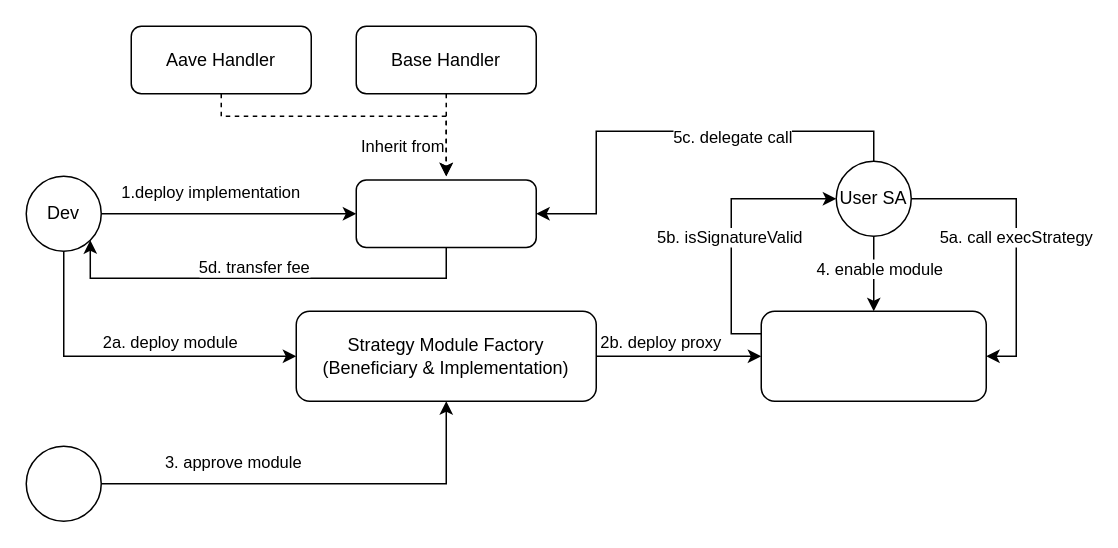
The diagram is 1118 pixels wide and 548 high, and some of its shapes have lost their labels. Each missing label, with the centre of its shape:
Admin: point 63,483
Custom Strategy: point 445,213
Strategy Module: point 873,355
